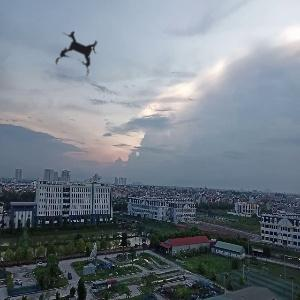drone: (39, 12, 121, 94)
